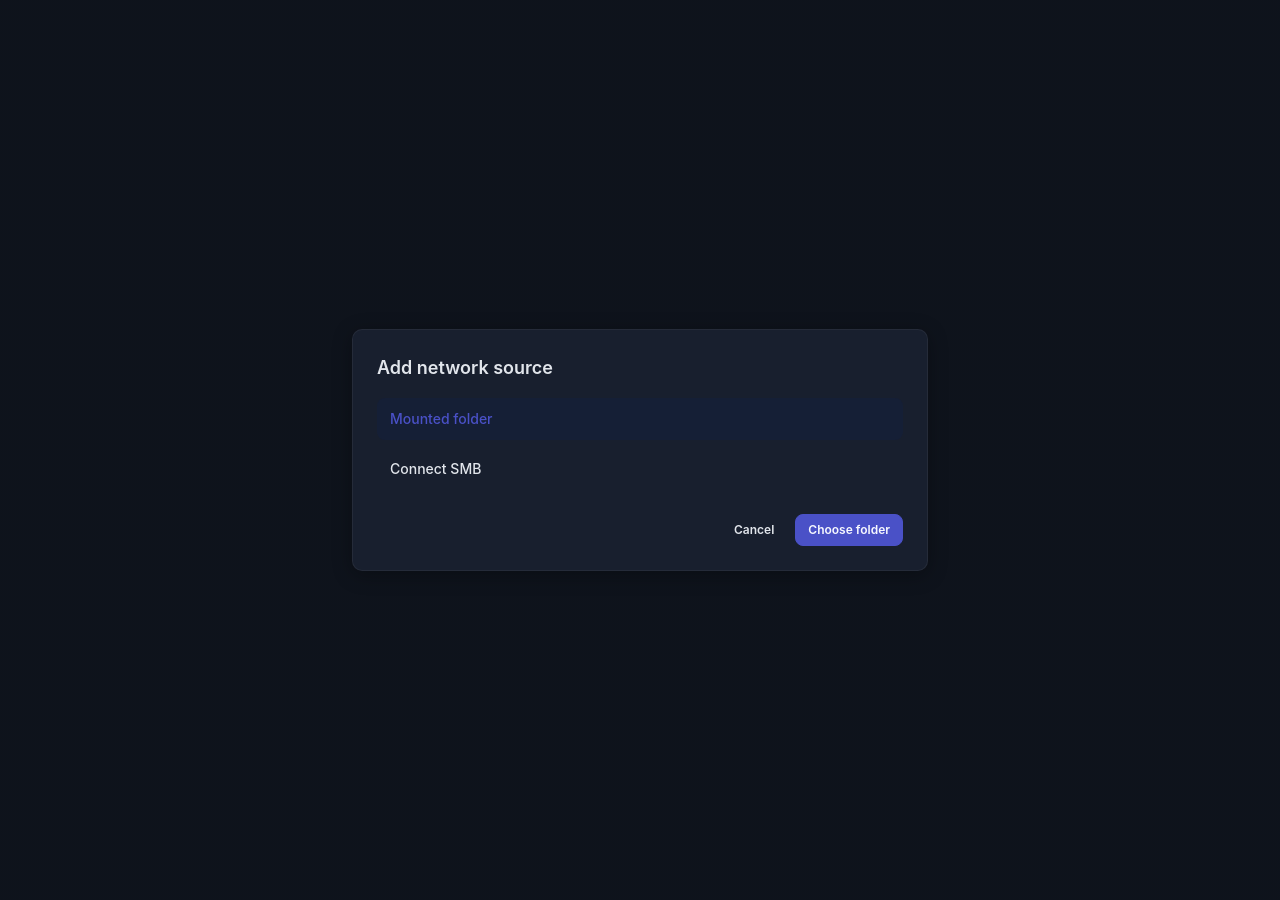
Test: SmbConnectDialog › selects share when listing returns entries without names
Click the button "Connect SMB".
click(436, 468)  # box [377,448,903,490]
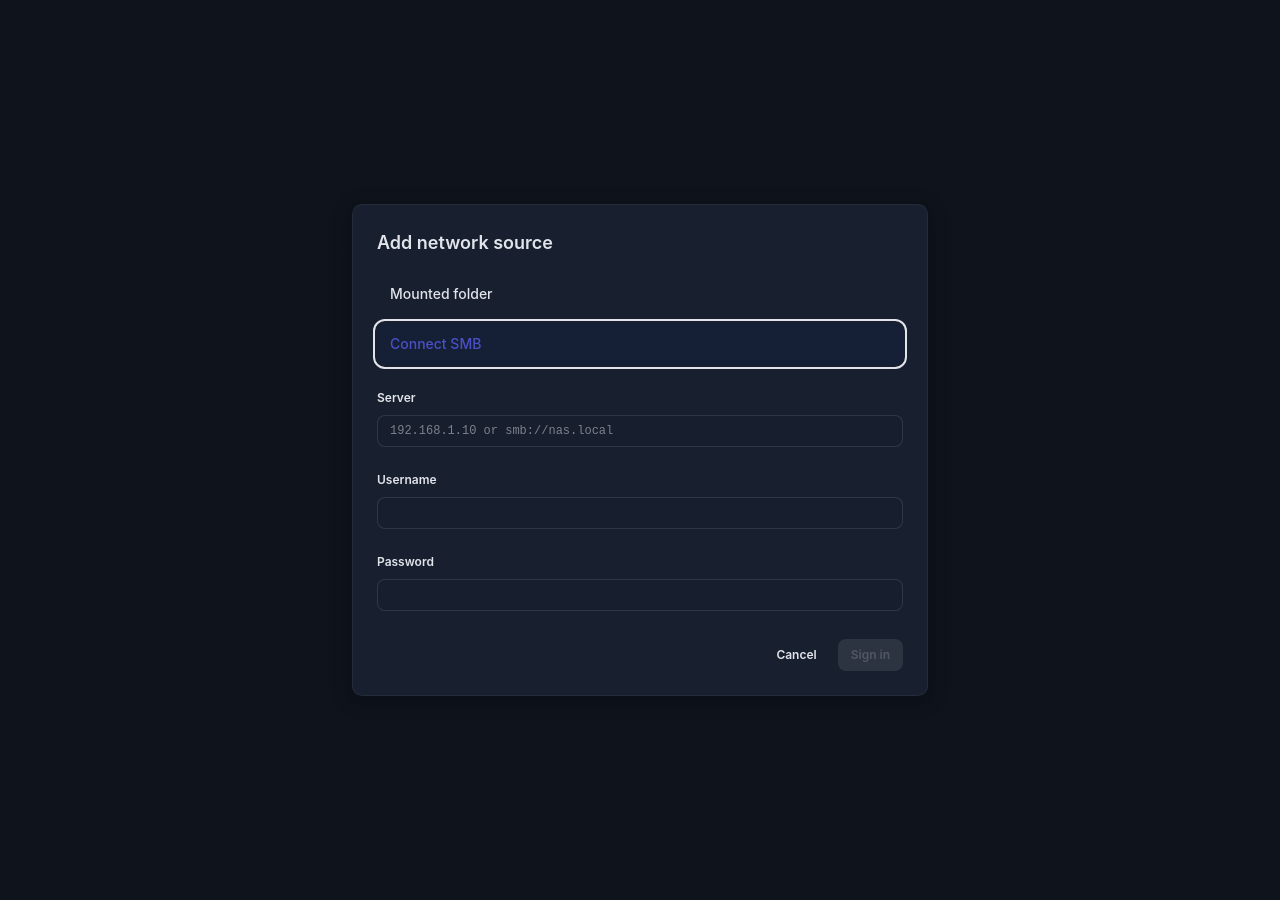
Type "10.0.0.1" into the field with placeholder "192.168.1.10 or smb://nas.local".
click(640, 431); type("10.0.0.1")  # box [377,415,903,447]
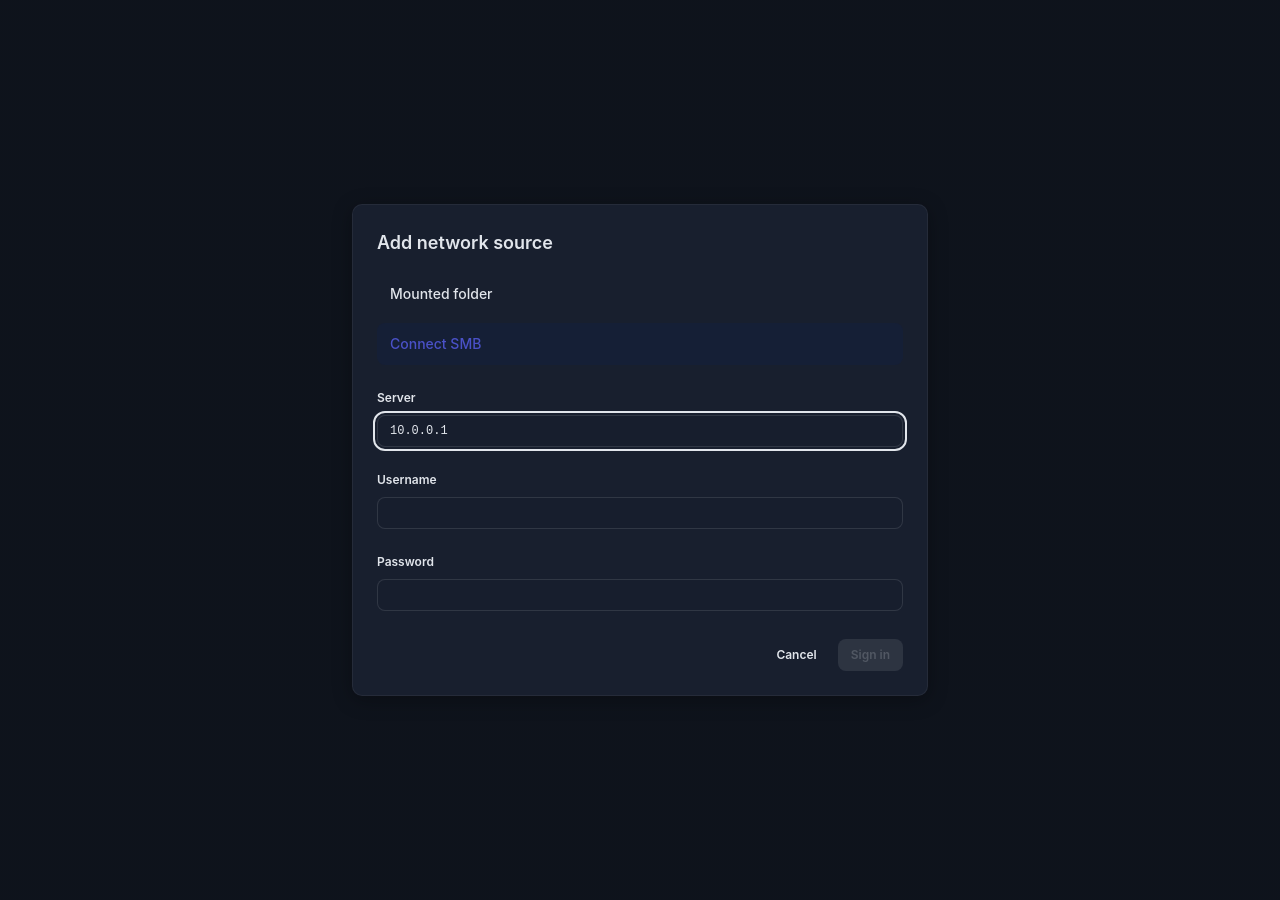
Type "user" into the field named "Username".
click(640, 513); type("user")  # box [377,497,903,529]
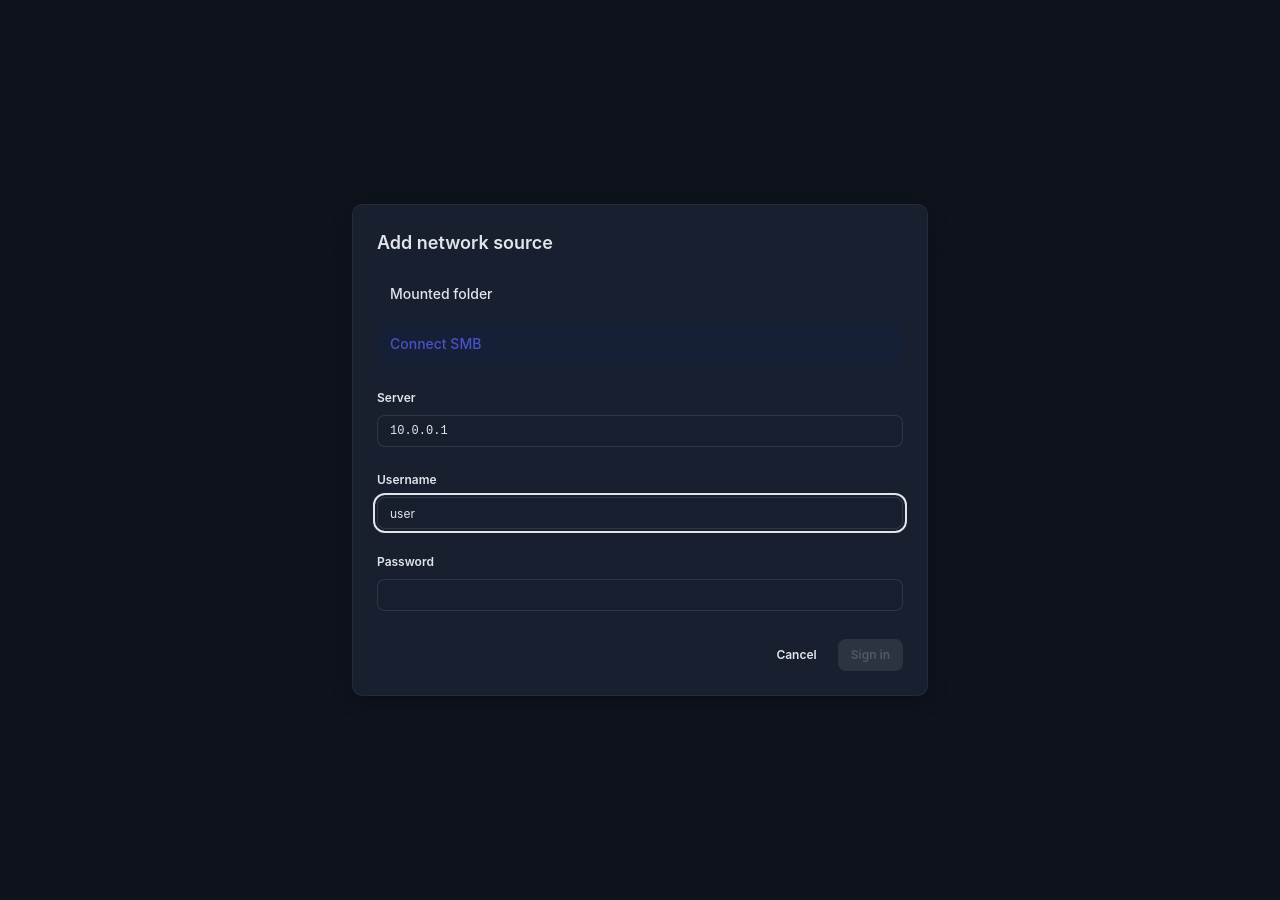
Type "pass" into the password field named "Password".
click(640, 595); type("pass")  # box [377,579,903,611]
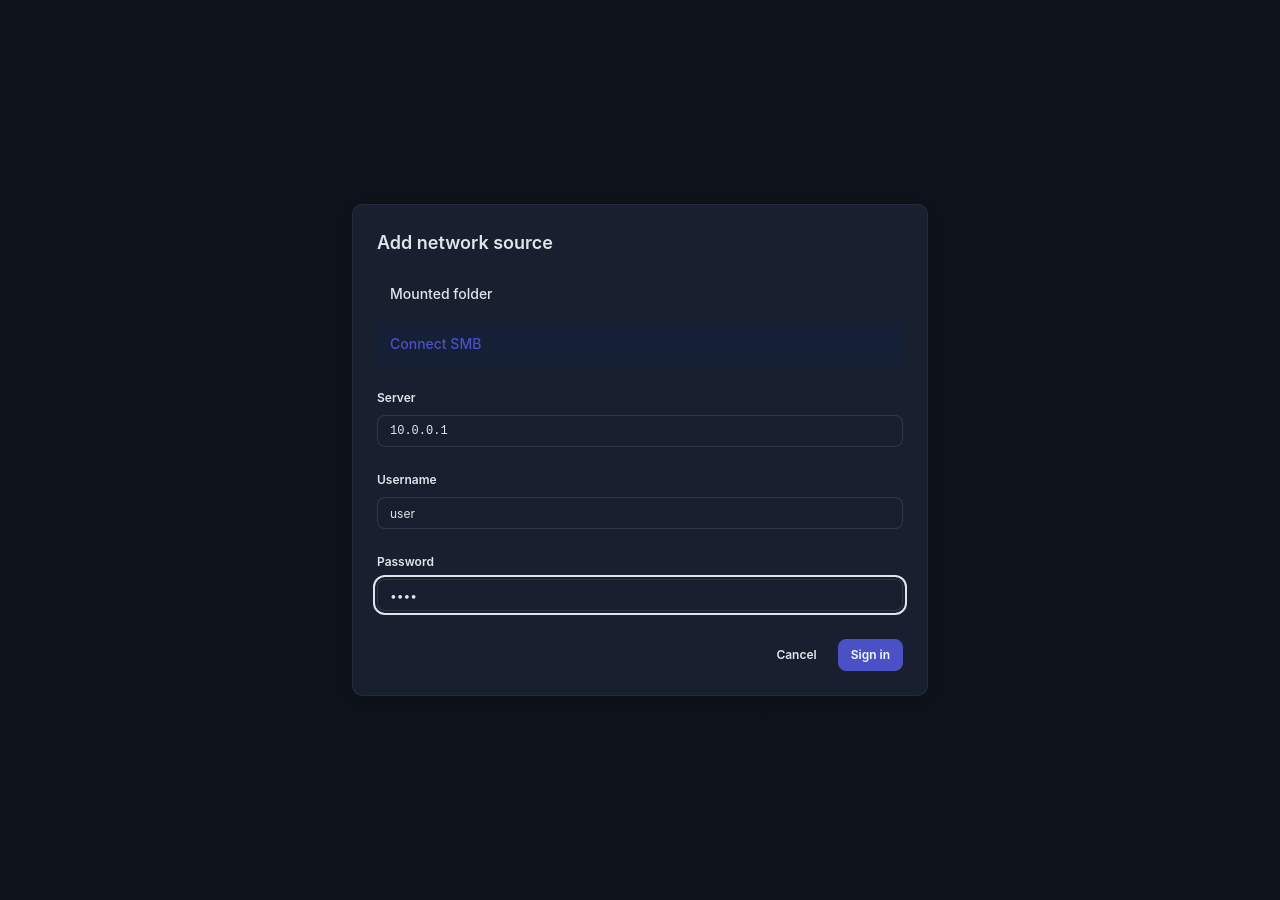
Click the button "Sign in".
click(870, 655)  # box [838,639,903,671]
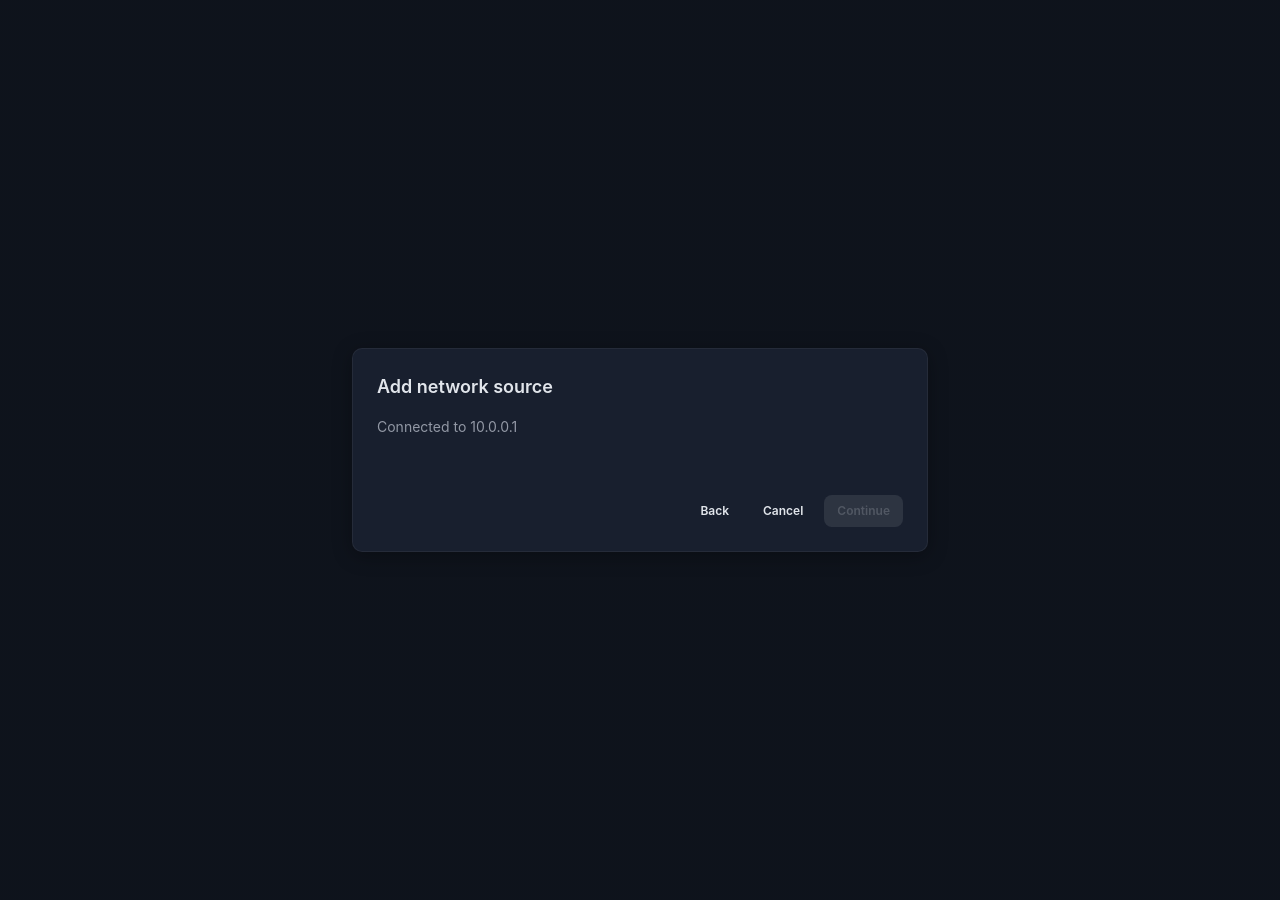
expect the button "Continue" is shown: met, box [824,495,903,527]
